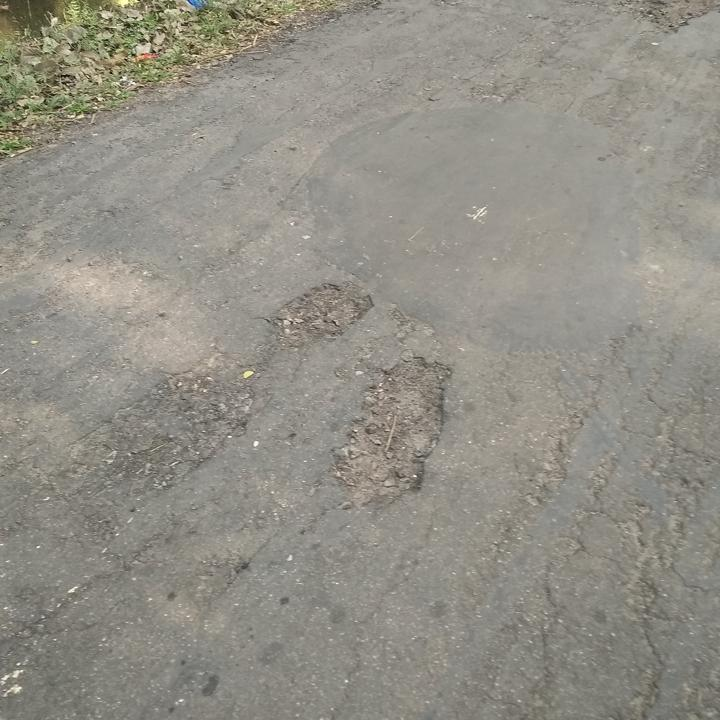pothole: (67, 352, 261, 494), (330, 351, 452, 515), (264, 281, 378, 356), (607, 0, 720, 35)
